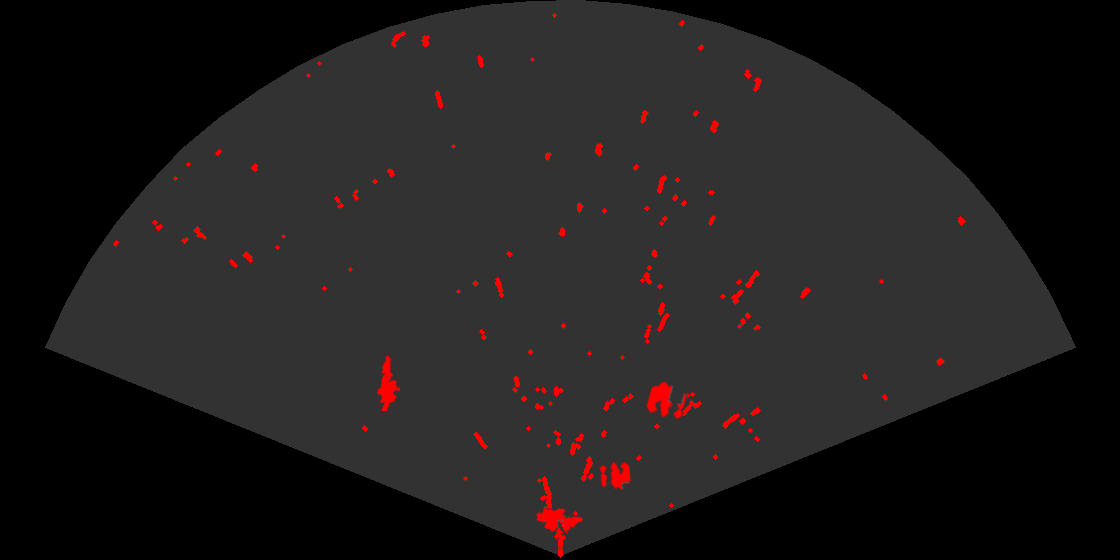AUV: (534, 507, 585, 533)
ball: (645, 380, 689, 421), (598, 460, 632, 491)
frogman: (375, 353, 402, 411)
